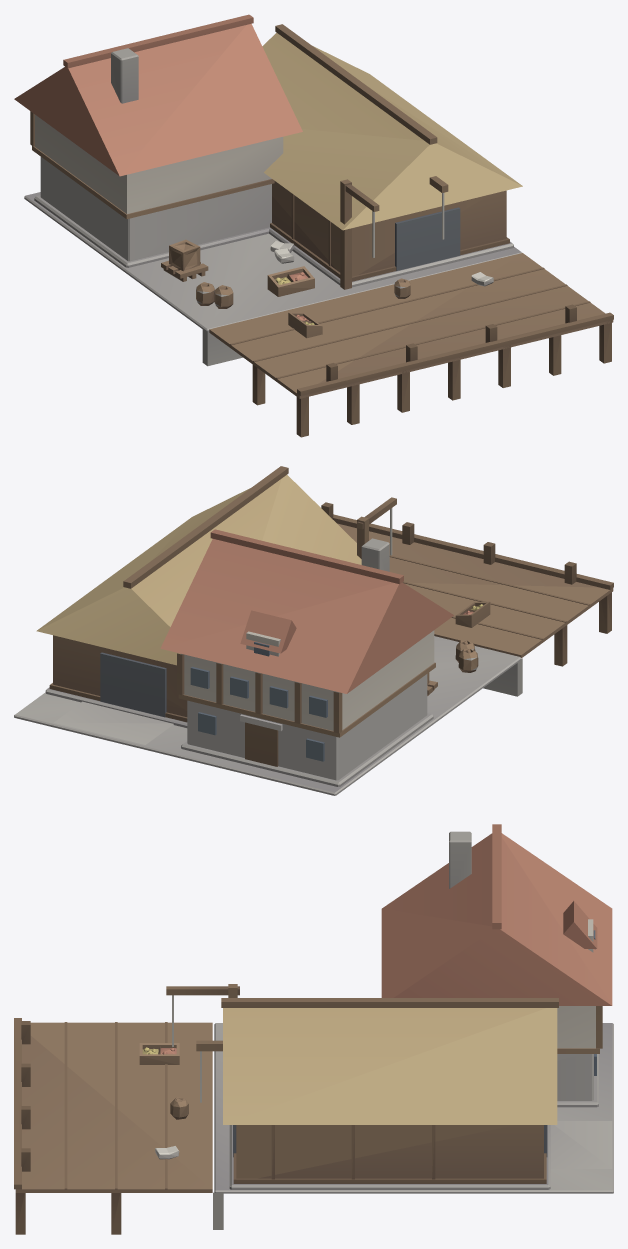
Rendered from trading_post.l2.glb.
The picture shows the model from 3 angles, top to bottom: view 1: azimuth 30°, elevation 25°; view 2: azimuth 150°, elevation 25°; view 3: azimuth 270°, elevation 25°; orthographic projection. The views are drawn at different scales.
Visible parts, largest first — view 1: trading_post; view 2: trading_post; view 3: trading_post.
Part boxes in pixels (box(x1,y1,x2,y2)): trading_post: box(14, 14, 613, 437); trading_post: box(14, 466, 613, 795); trading_post: box(14, 824, 613, 1234).
Size of the model in its own units: 6.25 by 4.1 by 8.98.
